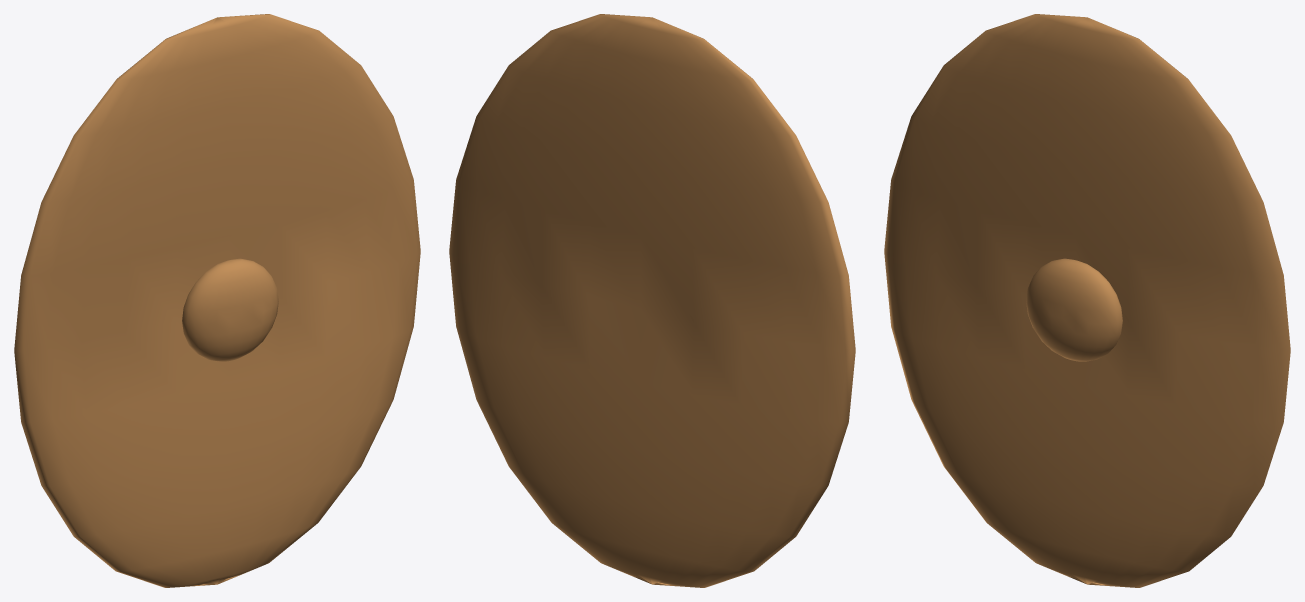
File: escudo.glb
3 views of the same model, side by side, from view 1: azimuth 30°, elevation 25°; view 2: azimuth 150°, elevation 25°; view 3: azimuth 330°, elevation 25° (orthographic).
Parts seen in each view (by area): view 1: Face do escudo, Reforço central; view 2: Face do escudo; view 3: Face do escudo, Reforço central.
Part boxes in pixels (bbox=[...]): Face do escudo: bbox=[14, 14, 420, 587]; Reforço central: bbox=[182, 258, 278, 361]; Face do escudo: bbox=[449, 14, 855, 587]; Face do escudo: bbox=[884, 14, 1290, 587]; Reforço central: bbox=[1026, 258, 1122, 361].
Bounding box in the file's own units: 1.5 × 2 × 0.23.
